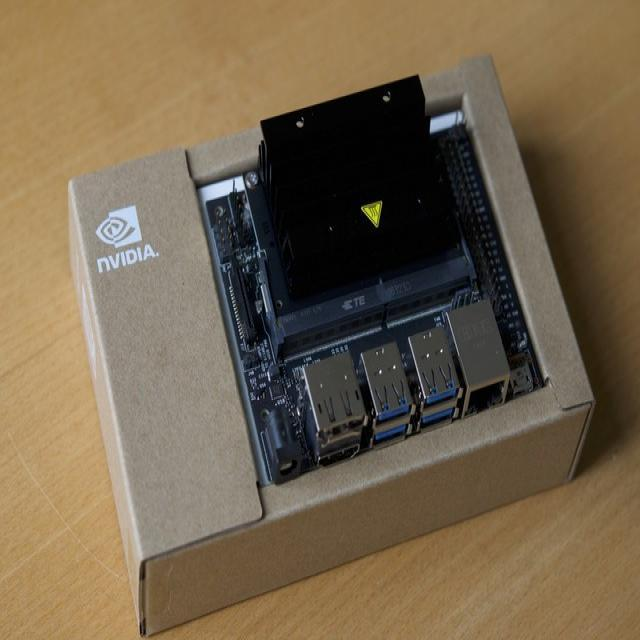Jetson Nano: (205, 73, 541, 482)
